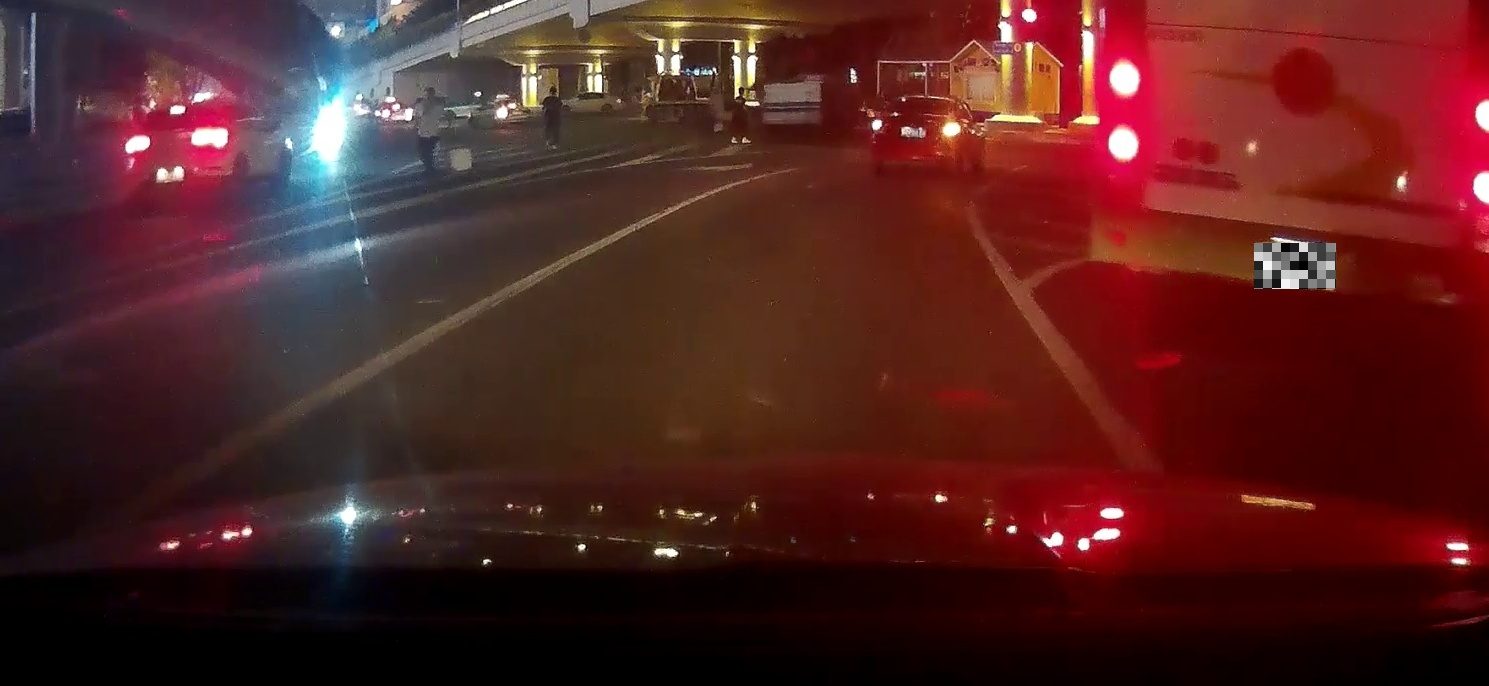L_light: (126, 135, 151, 154), (872, 120, 889, 133)
R_light: (191, 130, 228, 148), (938, 123, 956, 136)
T_light: (169, 107, 186, 113), (915, 98, 928, 102)
night-brake: (126, 105, 230, 200)
night-right: (870, 97, 956, 174)
plate_1: (1254, 243, 1336, 289)
